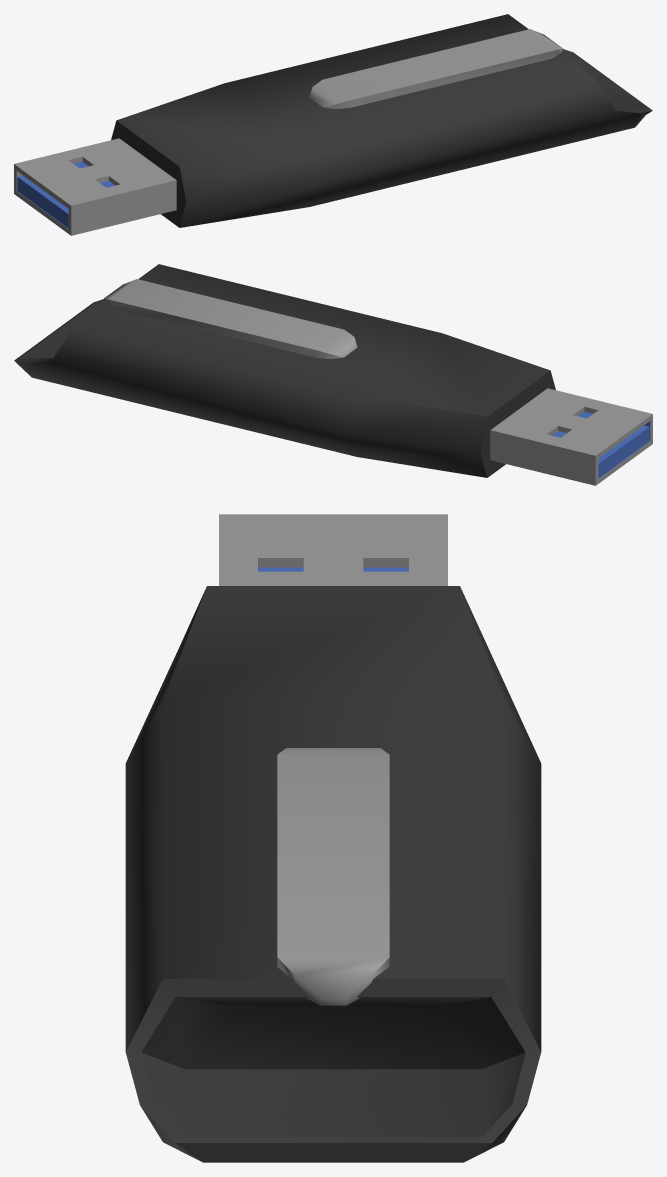
Rendered from USBKey.fbx.
3 views of the same model, one above another, from view 1: azimuth 30°, elevation 25°; view 2: azimuth 150°, elevation 25°; view 3: azimuth 270°, elevation 25° (orthographic). The views are drawn at different scales.
Parts seen in each view (by area): view 1: USB_key; view 2: USB_key; view 3: USB_key.
Boxes of the visible parts, x1,y1,x2,y2 form: USB_key: (14,14,652,235); USB_key: (14,264,652,485); USB_key: (125,514,541,1162).
Size of the model in its own units: 1.72 by 0.6282 by 5.44.
